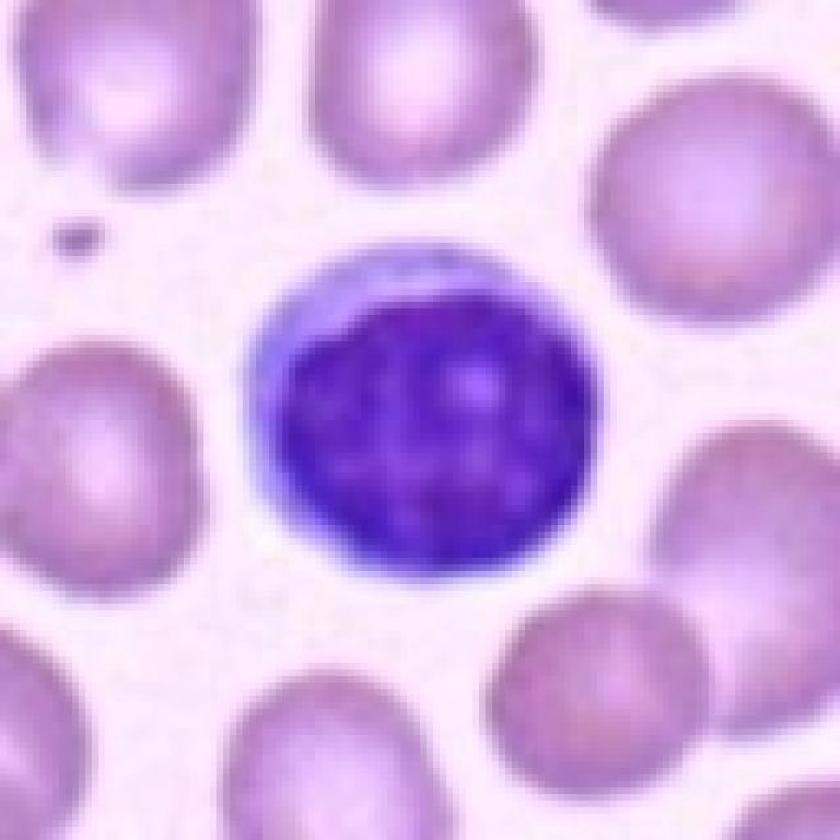lymphocyte: (232, 232, 606, 578)
